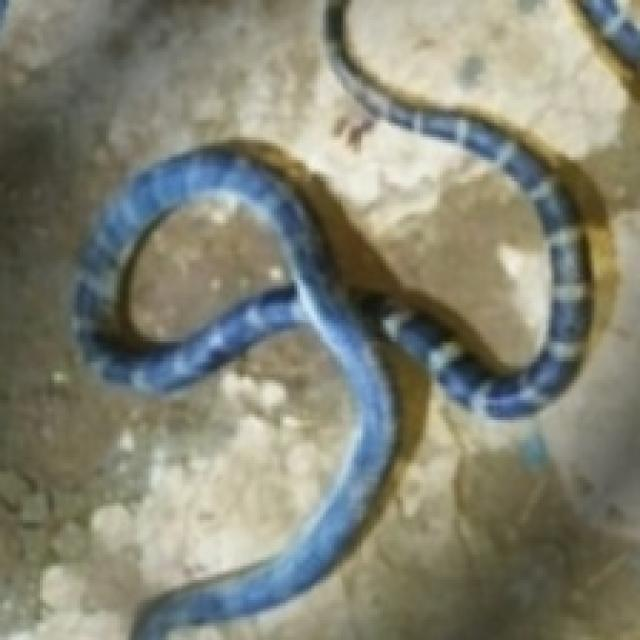king cobra: (77, 143, 637, 637), (326, 0, 611, 411), (289, 63, 466, 274), (111, 191, 294, 354), (134, 557, 323, 637)
